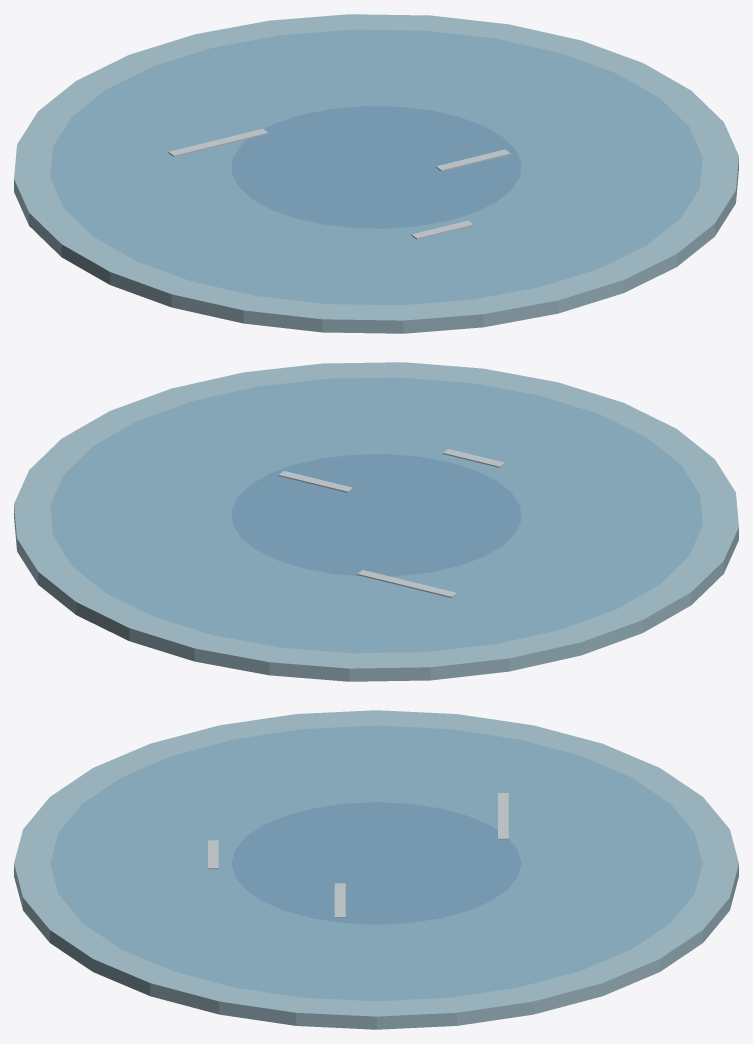
File: water_disc.gltf
3 views of the same model, one above another, from view 1: azimuth 30°, elevation 25°; view 2: azimuth 150°, elevation 25°; view 3: azimuth 270°, elevation 25° (orthographic).
Parts seen in each view (by area): view 1: water_disc; view 2: water_disc; view 3: water_disc.
Part boxes in pixels (x1,y1,x2,y2): water_disc: (14, 14, 738, 333); water_disc: (14, 362, 738, 681); water_disc: (14, 710, 738, 1029).
Size of the model in its own units: 2 by 0.045 by 2.
